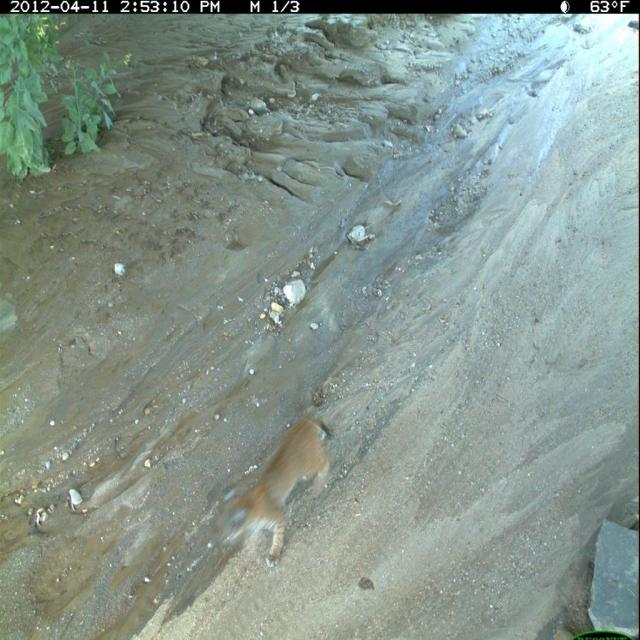bobcat: (213, 412, 336, 571)
